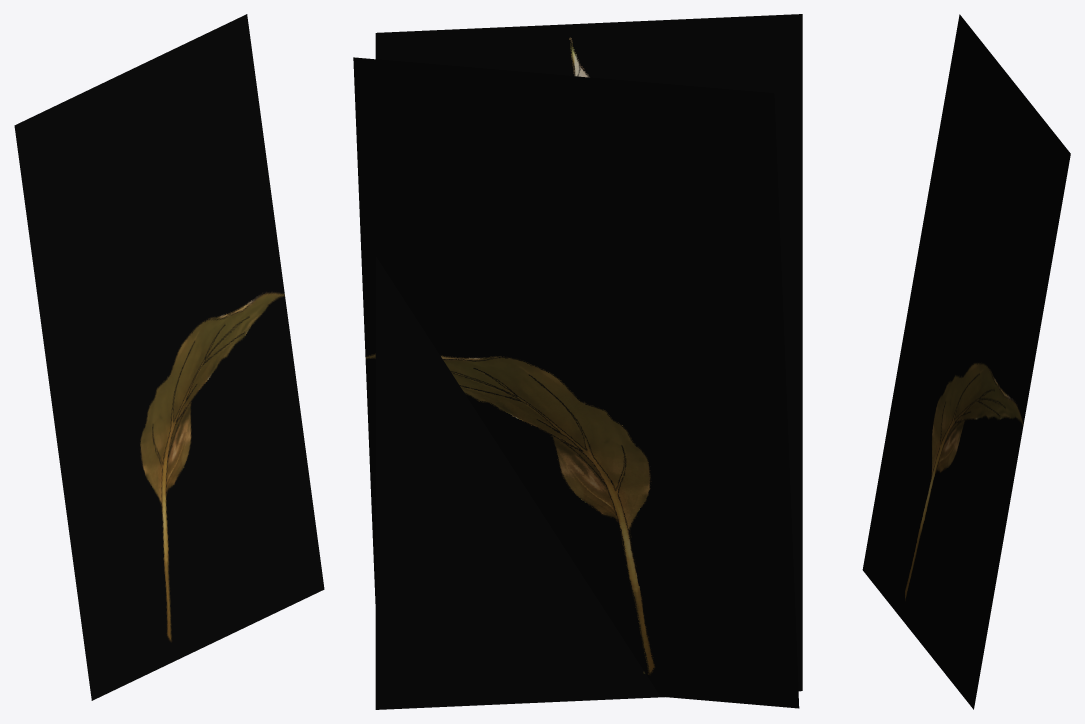
Rendered from flower_one.glb.
3 views of the same model, side by side, from view 1: azimuth 30°, elevation 25°; view 2: azimuth 150°, elevation 25°; view 3: azimuth 270°, elevation 25° (orthographic). The views are drawn at different scales.
Parts seen in each view (by area): view 1: LeafLeft; view 2: LeafLeft, FlowerLeft; view 3: LeafLeft.
Boxes of the visible parts, x1,y1,x2,y2 form: LeafLeft: (14,14,324,700); LeafLeft: (353,57,799,708); FlowerLeft: (375,14,802,709); LeafLeft: (862,14,1070,709).
Bounding box in the file's own units: 0.5208 × 0.87 × 0.3436.
Materials: 2 (2 with a texture image).
